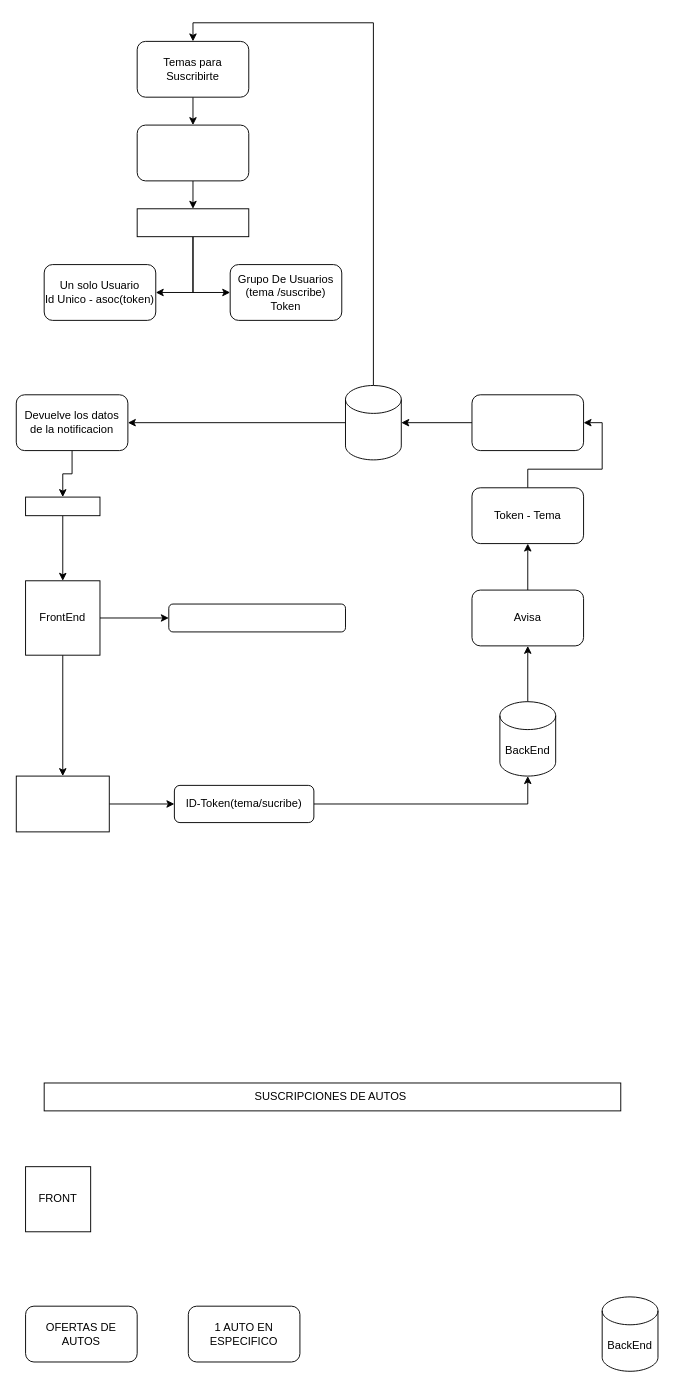
Image size: 674x1388. Some labels were removed from this diagram. The centre of each missing label's shape, as x and y in pixels:
"Datos De Notificacion" belongs at [62,803].
"FireBase" belongs at [373,422].
"ID - Token" belongs at [192,222].
"Lo muestra al Usuario" belongs at [256,617].
"Revice los datos del Back" belongs at [527,422].
"Token - id" belongs at [62,506].
"Token(grupo en firebase) - asociado(user/users)" belongs at [192,152].
